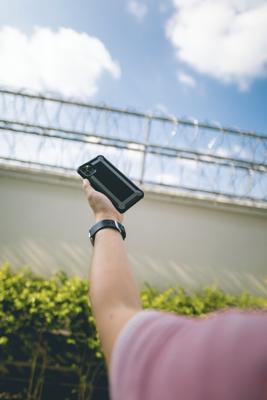Mobile Phone: (76, 153, 144, 214)
